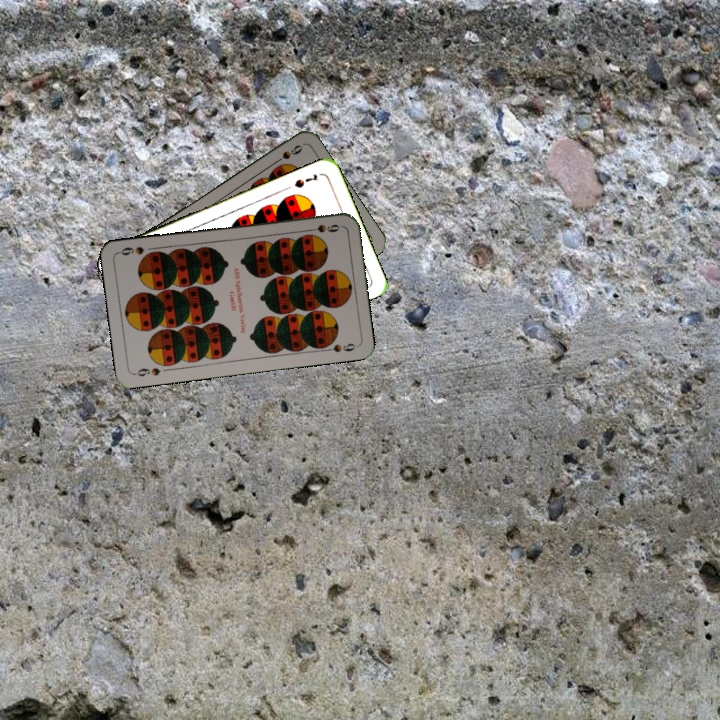S7: (290, 170, 320, 190)
S9: (268, 141, 305, 168), (302, 220, 342, 235), (130, 364, 163, 379)
